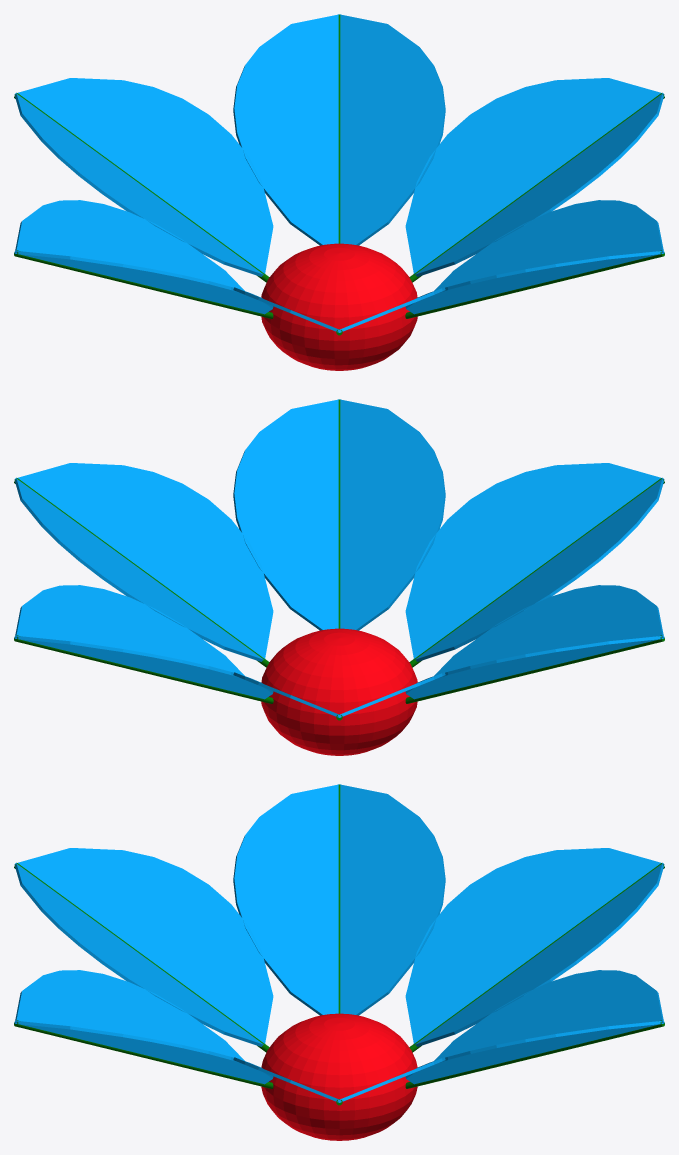
The model's file is flower.fbx.
3 renders of one model, top to bottom at view 1: azimuth 30°, elevation 25°; view 2: azimuth 150°, elevation 25°; view 3: azimuth 270°, elevation 25°, orthographic.
Parts seen in each view (by area): view 1: Circle.001; view 2: Circle.001; view 3: Circle.001.
Boxes of the visible parts, x1,y1,x2,y2 form: Circle.001: [14, 14, 664, 370]; Circle.001: [14, 399, 664, 755]; Circle.001: [14, 784, 664, 1140].
Size of the model in its own units: 472 by 135 by 409.
